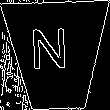N_S: (36, 29, 77, 82)
